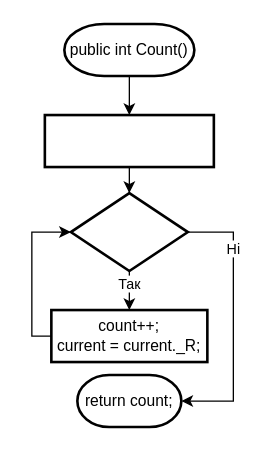
This 267x450 diagram has some shape labels left out. Here are the shapes that lost their labels. From the top down, the centre of each, then its label:
the point at 128,140: int count = 0; Elem current = _Head;
the point at 128,231: current != null
